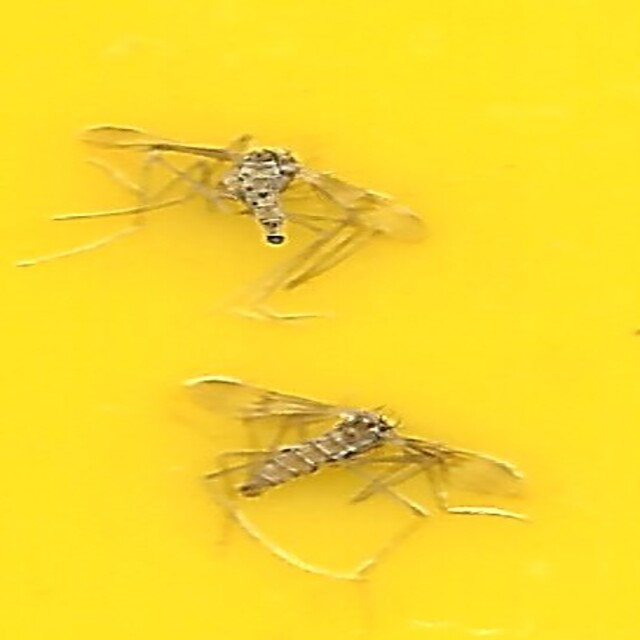Nematocera: (234, 408, 406, 500), (234, 140, 305, 248)
